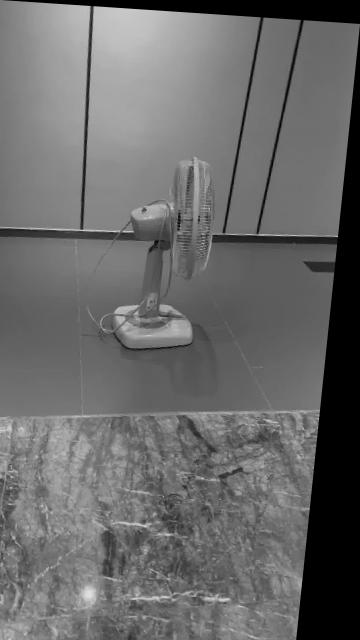Fan: (119, 154, 218, 348)
